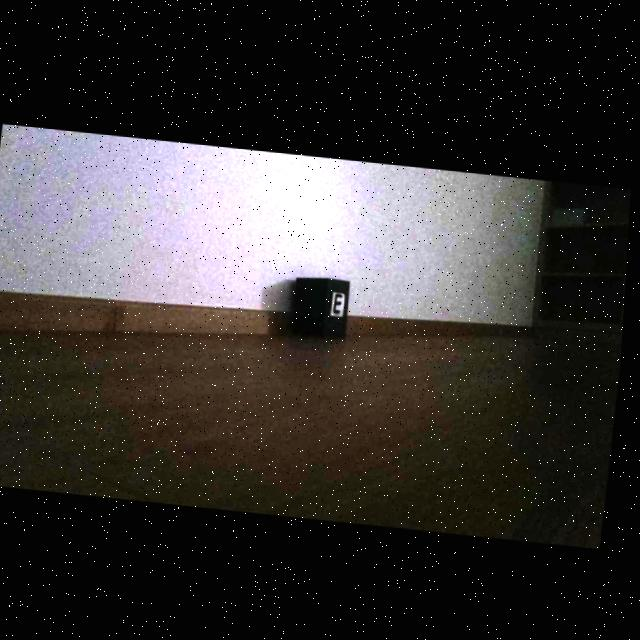E: (337, 290, 346, 310)
